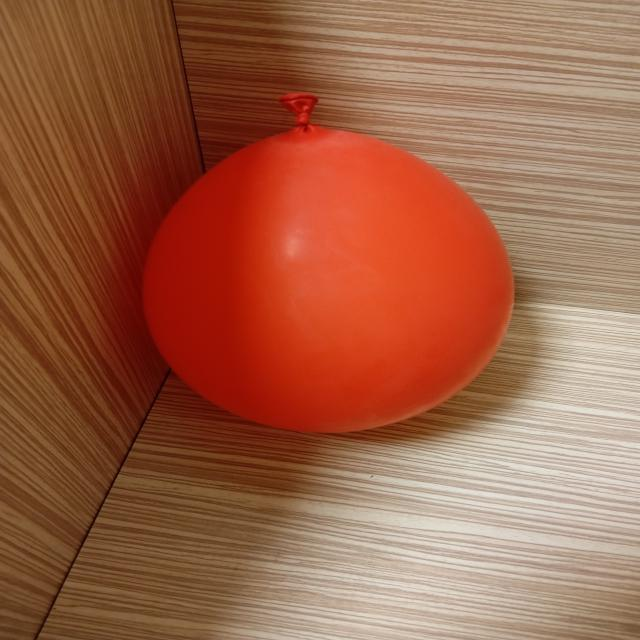balloon: (142, 93, 514, 432)
